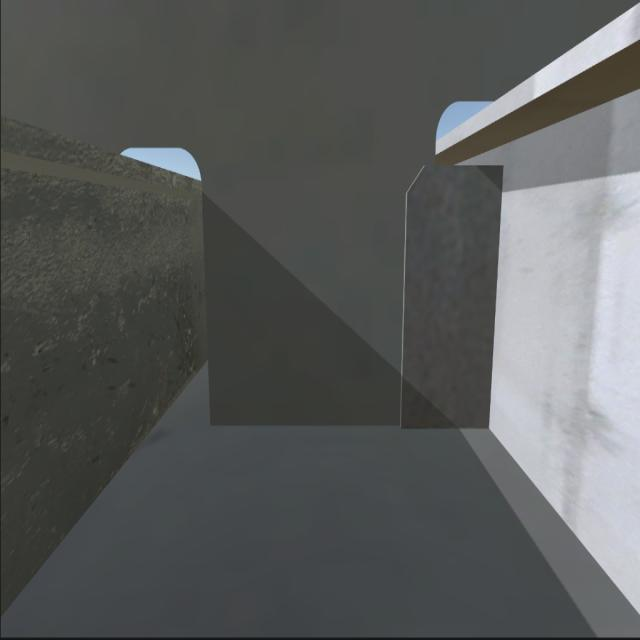fillet_yong_jeop_jang: (208, 424, 490, 436)
longi_yong_jeop_jang: (485, 169, 494, 434)
plate_CP03: (400, 158, 501, 426)
